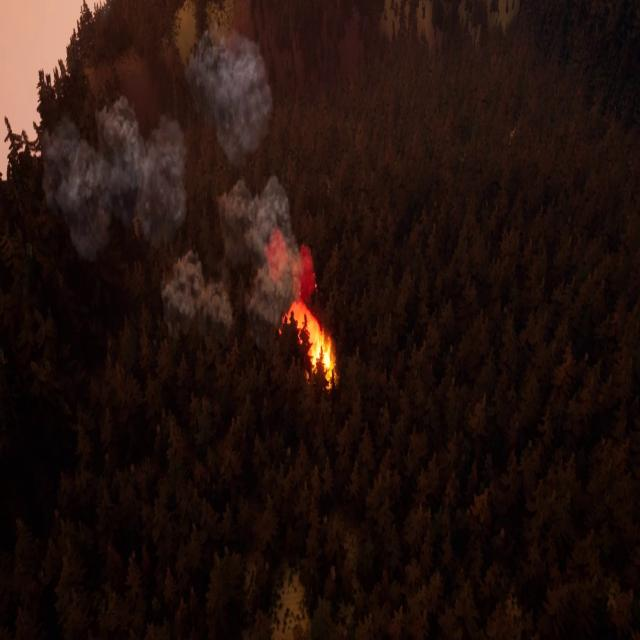fire: (271, 234, 338, 395)
smoke: (45, 10, 316, 337)
